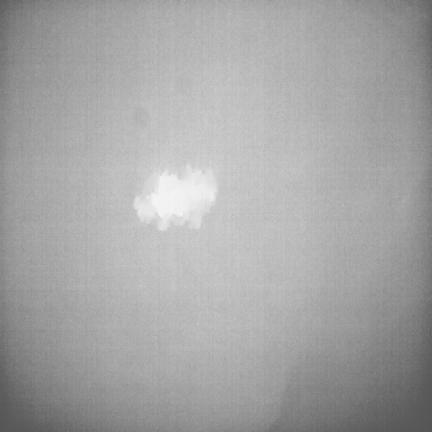flukeprints: (134, 165, 216, 230)
